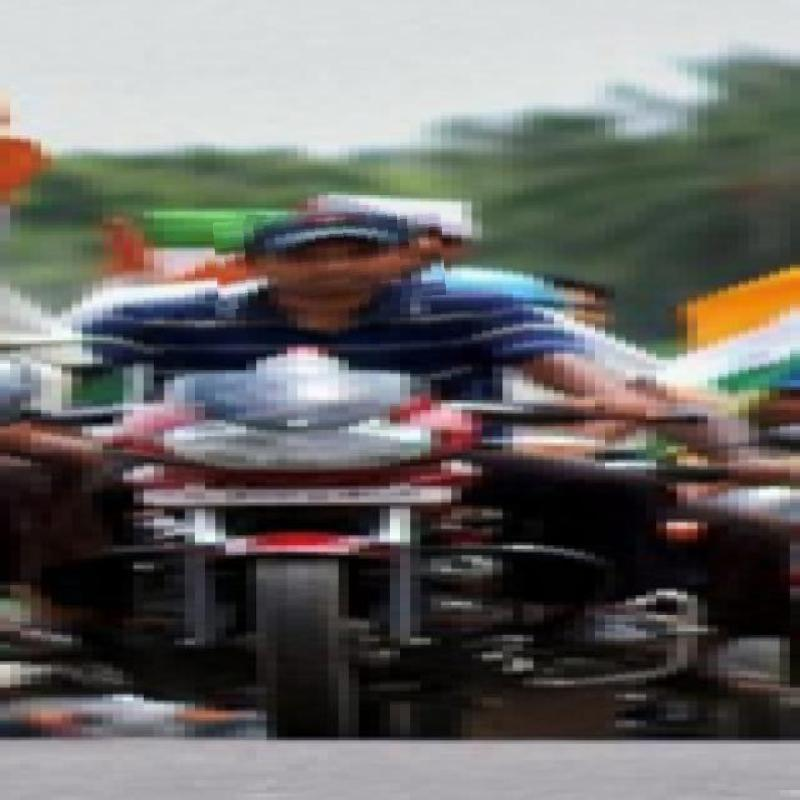nohelmet: (215, 211, 445, 306)
